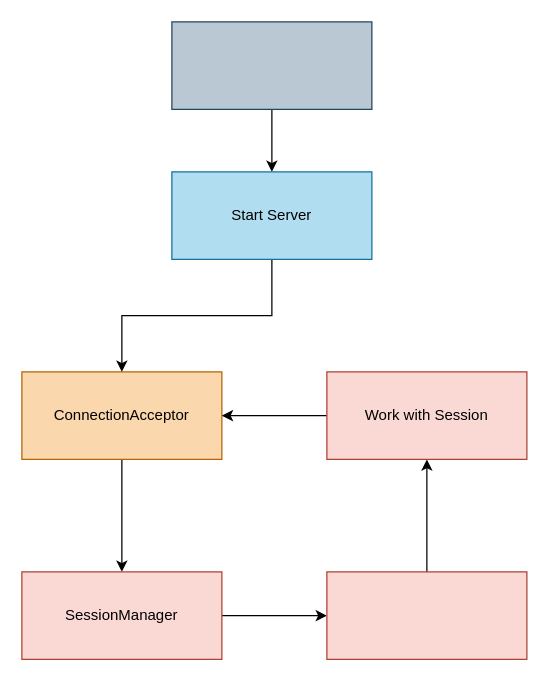
Some shapes in this 549 by 681 pixel diagram are drawn without their labels. The box of each missing label's shape, as (x1, y1, x2, y2) in pixels:
Create Session: (326, 571, 527, 659)
Server: (171, 21, 372, 109)
